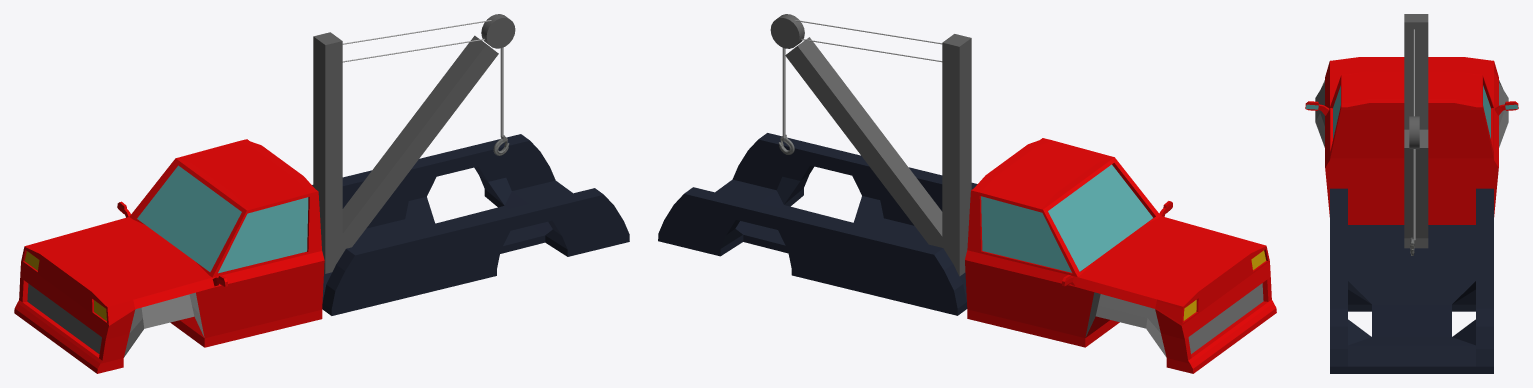
The picture shows the model from 3 angles, left to right: view 1: azimuth 30°, elevation 25°; view 2: azimuth 150°, elevation 25°; view 3: azimuth 270°, elevation 25°; orthographic projection.
Parts seen in each view (by area): view 1: pCylinder6; view 2: pCylinder6; view 3: pCylinder6.
Part boxes in pixels (x1,y1,x2,y2): pCylinder6: (14, 14, 629, 373); pCylinder6: (658, 14, 1276, 373); pCylinder6: (1305, 14, 1518, 373).
Size of the model in its own units: 48.53 by 20.57 by 17.02.
8 materials, 1 textured.
